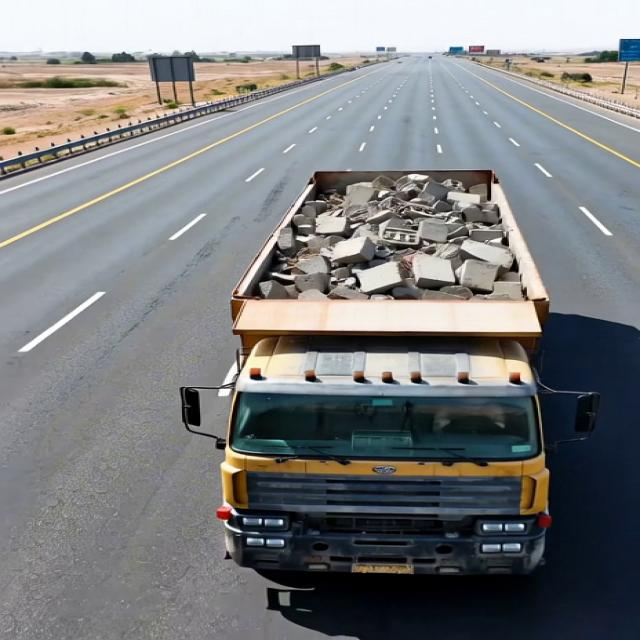trailer: (238, 171, 548, 337)
truck: (172, 158, 607, 590)
